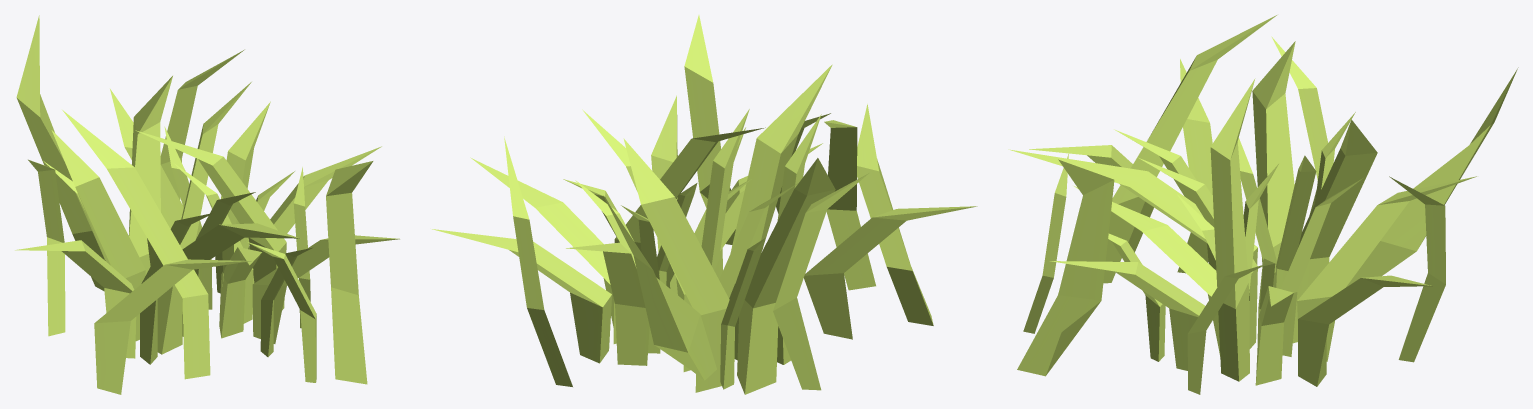
The model's file is grass2.fbx.
The picture shows the model from 3 angles, left to right: view 1: azimuth 30°, elevation 25°; view 2: azimuth 150°, elevation 25°; view 3: azimuth 270°, elevation 25°; orthographic projection. The views are drawn at different scales.
Parts seen in each view (by area): view 1: Cone.003; view 2: Cone.003; view 3: Cone.003.
Part boxes in pixels (<box>): Cone.003: <box>15,15,399,394</box>; Cone.003: <box>432,15,977,394</box>; Cone.003: <box>1008,15,1518,394</box>.
Size of the model in its own units: 99.98 by 57.98 by 98.26.
